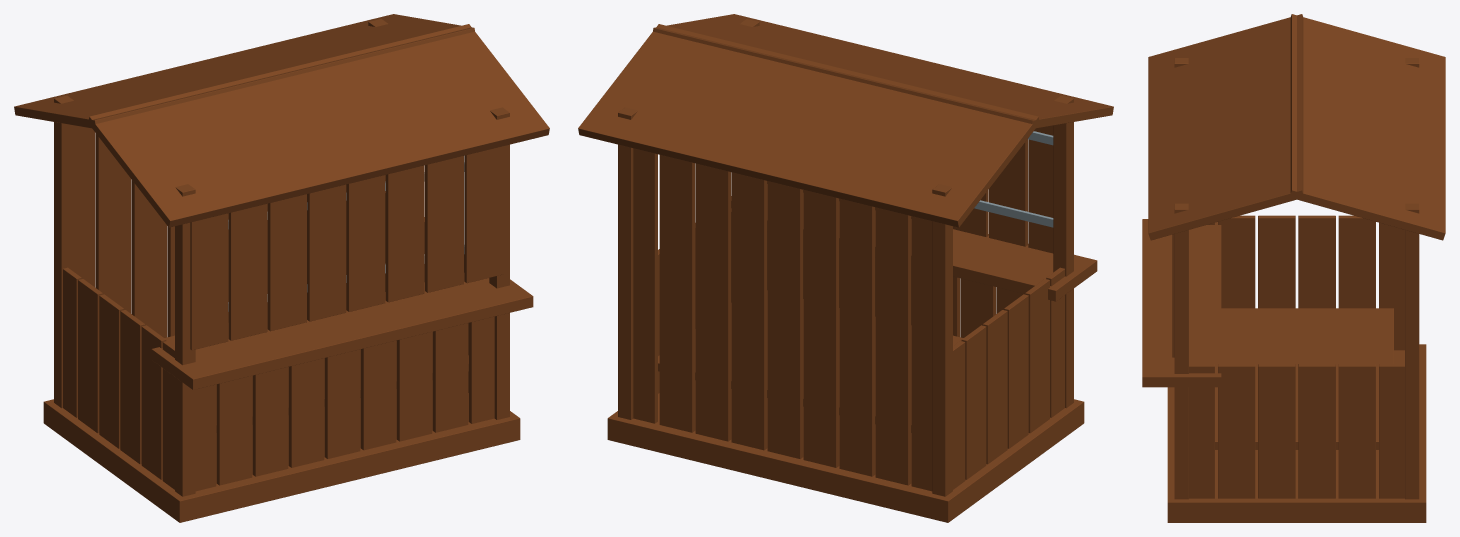
Rendered from edited.glb.
3 views of the same model, side by side, from view 1: azimuth 30°, elevation 25°; view 2: azimuth 150°, elevation 25°; view 3: azimuth 270°, elevation 25° (orthographic). The views are drawn at different scales.
Parts seen in each view (by area): view 1: ROOF_PlankPanel, TIMBER_Floor, SERVING_Counter, ROOF_PlankPanel.001, BACK_Plank.002, SHUTTER_Plank.007, SHUTTER_Plank.001, SHUTTER_Plank.003, SHUTTER_Plank.004, SHUTTER_Plank.005, SHUTTER_Plank.002, SHUTTER_Plank (+22 smaller); view 2: ROOF_PlankPanel.001, TIMBER_Floor, ROOF_PlankPanel, BACK_Plank.002, BACK_Plank.003, BACK_Plank.004, BACK_Plank.006, BACK_Plank.008, BACK_Plank.005, BACK_Plank.007, BACK_Plank, BACK_Plank.001 (+16 smaller); view 3: ROOF_PlankPanel, ROOF_PlankPanel.001, STORAGE_Shelf, SERVING_Counter, TIMBER_Floor, SIDE_Plank.008, SIDE_Plank.009, SIDE_Plank.010, SIDE_Plank.007, FRAME_Post.003, FRAME_Post.002, SIDE_Plank.002 (+7 smaller).
Boxes of the visible parts, bbox=[...] form: ROOF_PlankPanel: bbox=[88, 24, 549, 227]; TIMBER_Floor: bbox=[43, 380, 520, 522]; SERVING_Counter: bbox=[151, 273, 533, 389]; ROOF_PlankPanel.001: bbox=[14, 14, 474, 128]; BACK_Plank.002: bbox=[95, 133, 131, 313]; SHUTTER_Plank.007: bbox=[464, 146, 503, 283]; SHUTTER_Plank.001: bbox=[228, 203, 267, 340]; SHUTTER_Plank.003: bbox=[307, 184, 346, 321]; SHUTTER_Plank.004: bbox=[346, 175, 385, 311]; SHUTTER_Plank.005: bbox=[385, 165, 424, 302]; SHUTTER_Plank.002: bbox=[267, 194, 306, 331]; SHUTTER_Plank: bbox=[190, 213, 228, 350]; ROOF_PlankPanel.001: bbox=[578, 24, 1038, 227]; TIMBER_Floor: bbox=[607, 380, 1084, 522]; ROOF_PlankPanel: bbox=[653, 14, 1113, 128]; BACK_Plank.002: bbox=[875, 207, 911, 485]; BACK_Plank.003: bbox=[839, 199, 875, 476]; BACK_Plank.004: bbox=[803, 190, 839, 467]; BACK_Plank.006: bbox=[731, 172, 767, 450]; BACK_Plank.008: bbox=[659, 155, 695, 432]; BACK_Plank.005: bbox=[767, 181, 803, 458]; BACK_Plank.007: bbox=[695, 163, 731, 441]; BACK_Plank: bbox=[633, 148, 657, 423]; BACK_Plank.001: bbox=[911, 216, 932, 491]; ROOF_PlankPanel: bbox=[1148, 14, 1303, 240]; ROOF_PlankPanel.001: bbox=[1290, 14, 1445, 240]; STORAGE_Shelf: bbox=[1215, 308, 1393, 449]; SERVING_Counter: bbox=[1142, 219, 1221, 387]; TIMBER_Floor: bbox=[1167, 344, 1426, 522]; SIDE_Plank.008: bbox=[1258, 364, 1295, 498]; SIDE_Plank.009: bbox=[1298, 364, 1335, 498]; SIDE_Plank.010: bbox=[1338, 364, 1375, 498]; SIDE_Plank.007: bbox=[1218, 364, 1255, 498]; FRAME_Post.003: bbox=[1405, 203, 1419, 499]; FRAME_Post.002: bbox=[1174, 203, 1188, 499]; SIDE_Plank.002: bbox=[1258, 215, 1295, 308].
Size of the model in its own units: 2.9 by 2.62 by 2.11.
